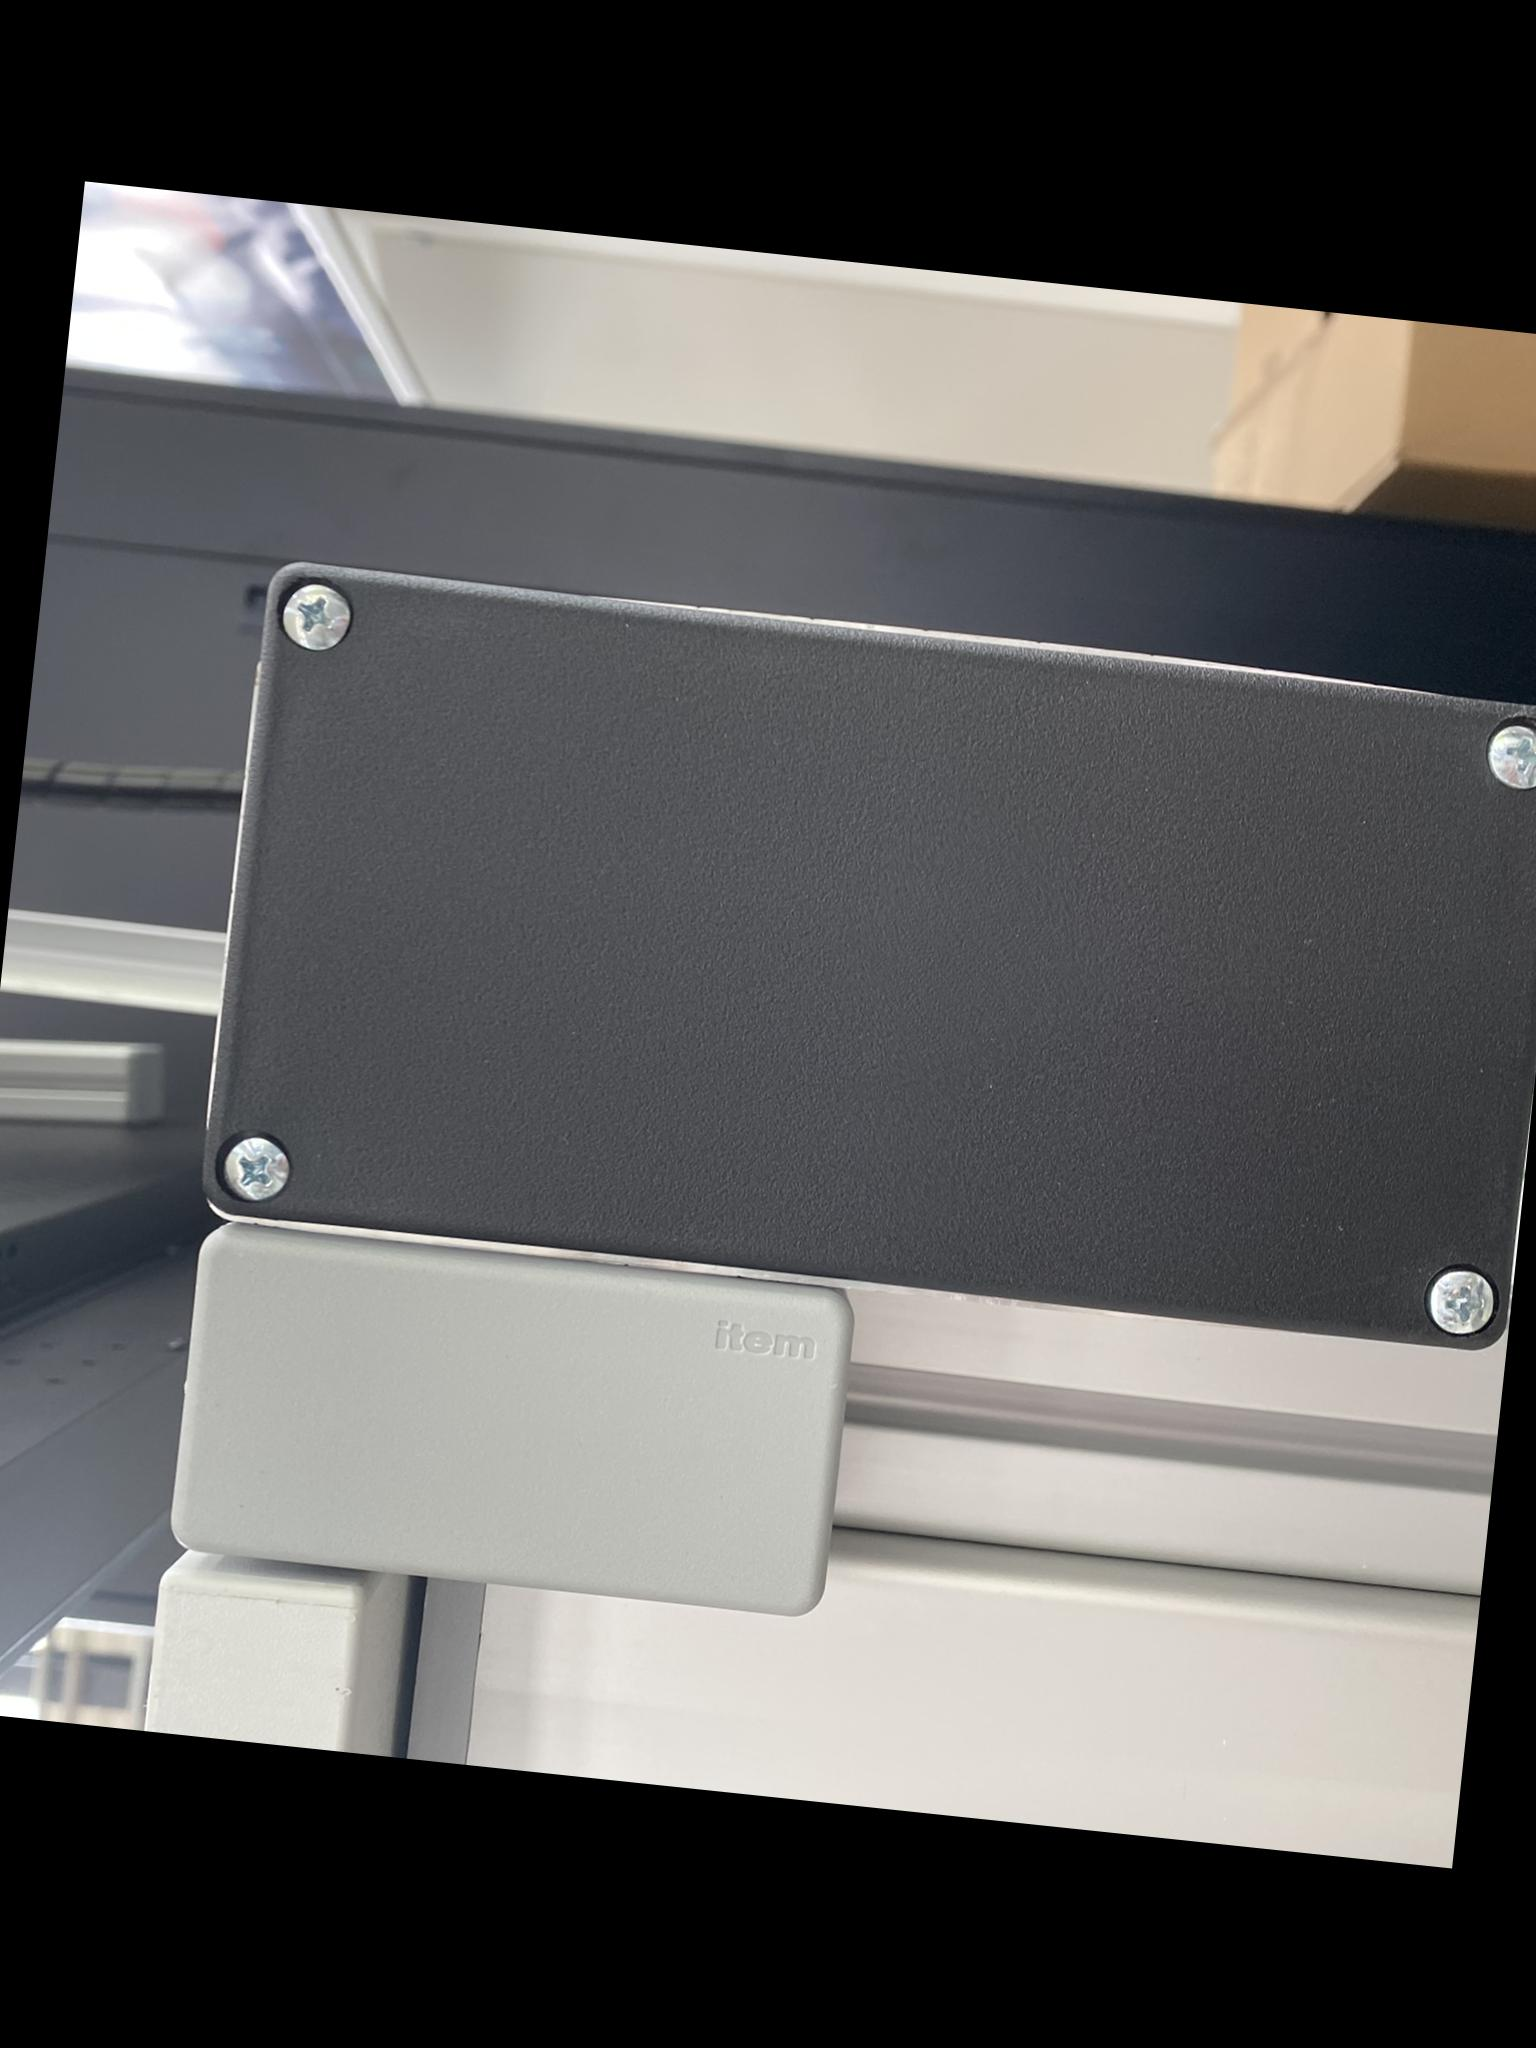PH: (274, 577, 356, 654), (1424, 1262, 1500, 1336), (223, 1132, 291, 1202), (1483, 715, 1536, 790)
